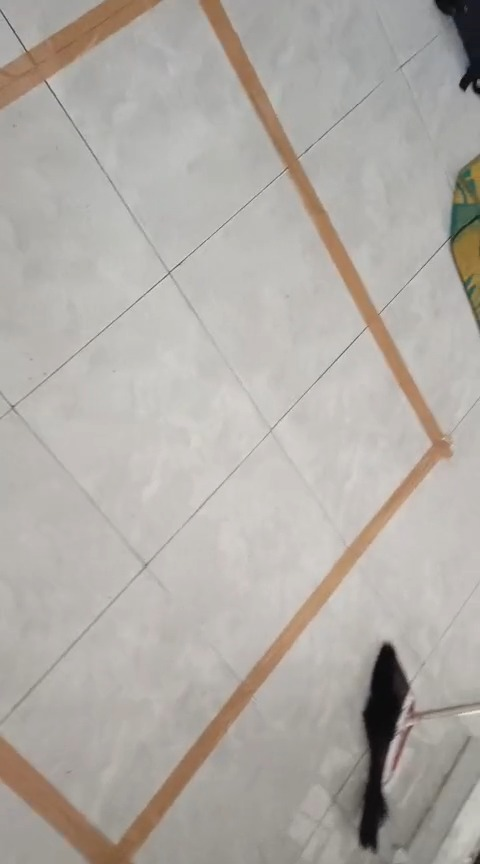floor marking: (1, 0, 451, 863), (0, 0, 159, 108)
